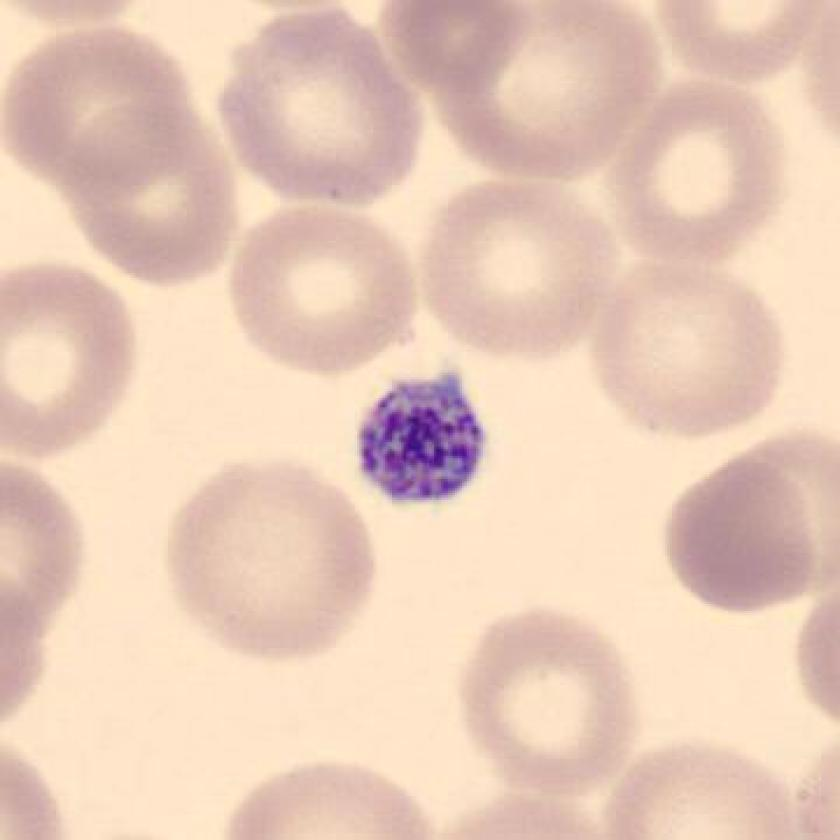platelets: (354, 367, 487, 515)
